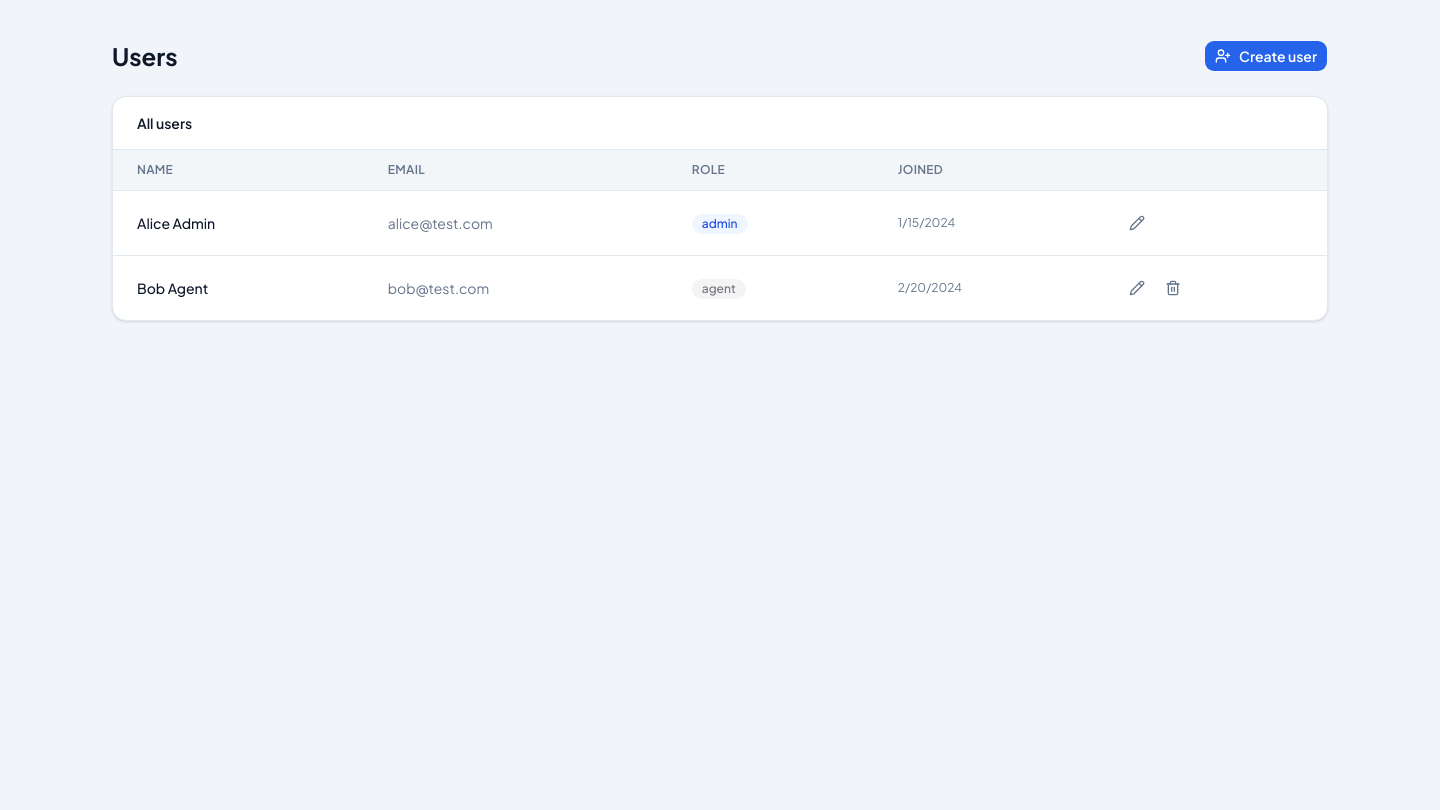
Test: UsersPage › opens the create user modal when the button is clicked
Expected: the text "Alice Admin" is shown, [113,190,364,256]
Click the button "Create user" at coordinates (1266, 56), box [1204,40,1328,72]
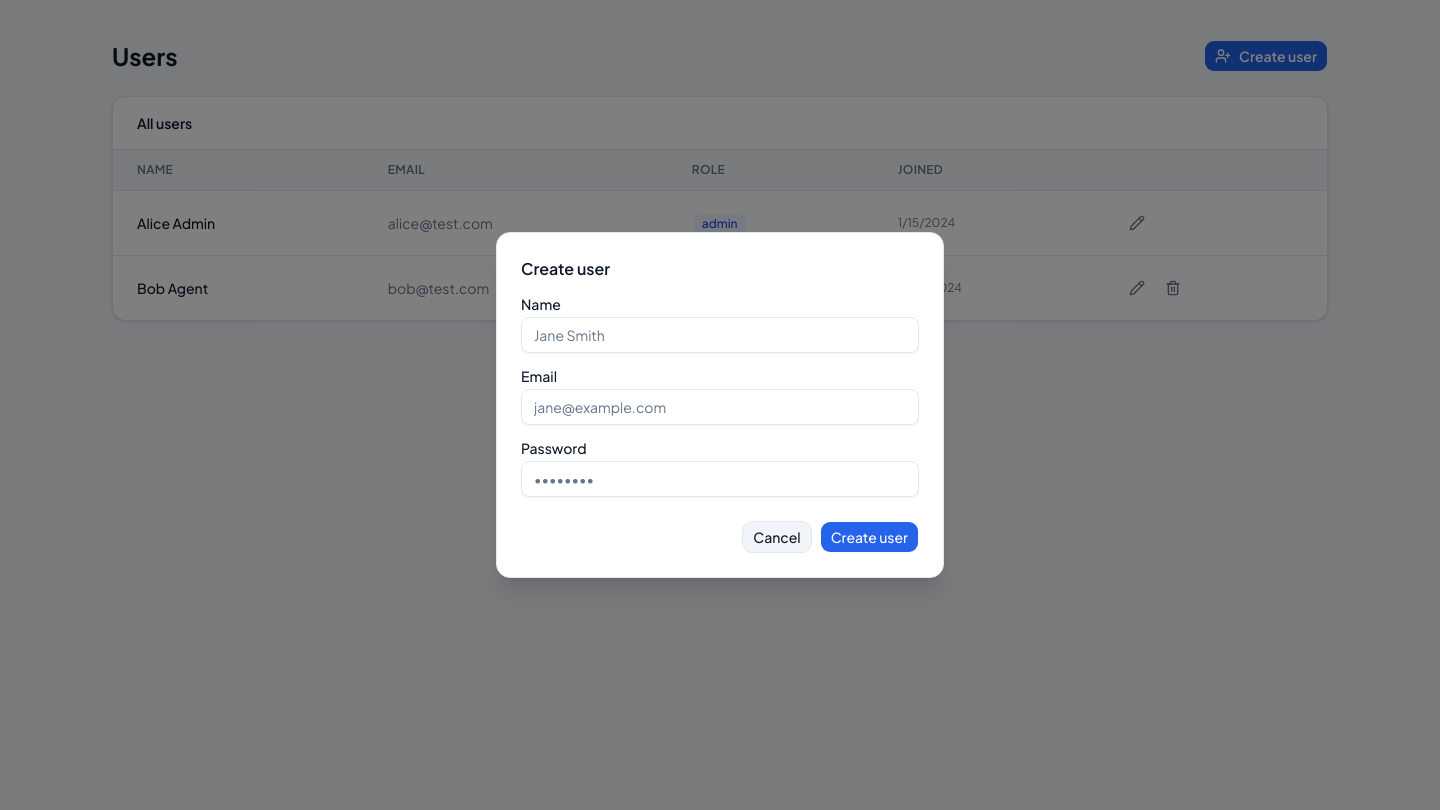
Now the heading "Create user" is shown, box [521,258,610,279]
Now the field labelled "Name" is shown, box [521,317,919,353]
Now the field labelled "Email" is shown, box [521,389,919,425]
